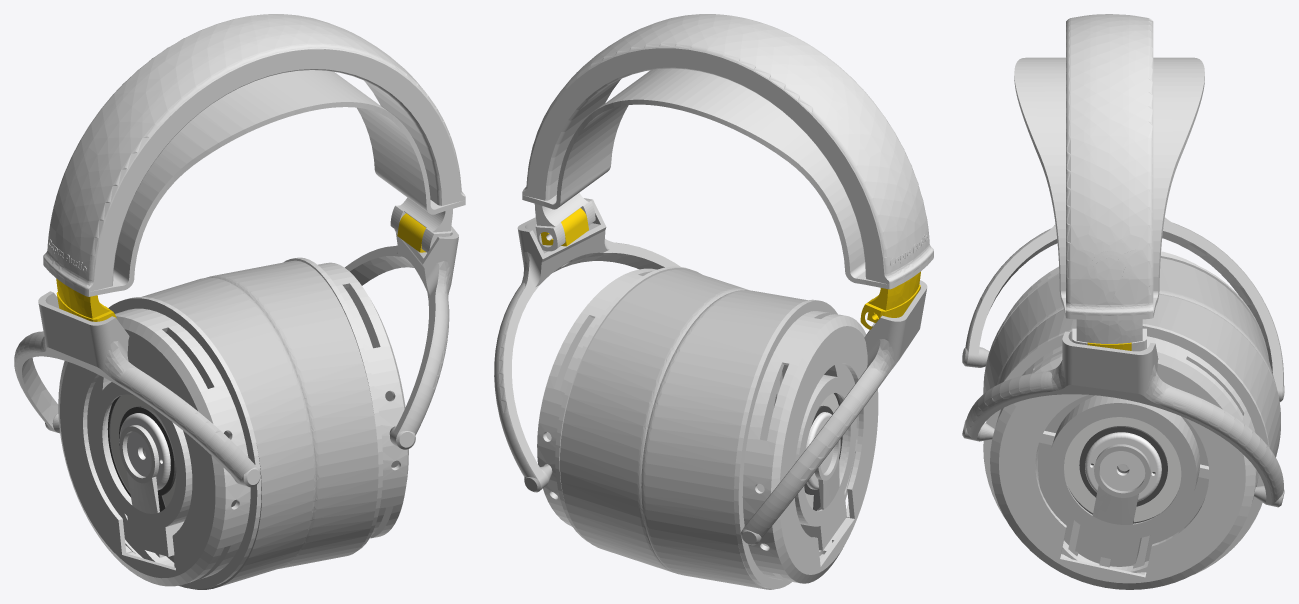
Rendered from open-omega-grouped.glb.
3 renders of one model, left to right at view 1: azimuth 30°, elevation 25°; view 2: azimuth 150°, elevation 25°; view 3: azimuth 270°, elevation 25°, orthographic. The views are drawn at different scales.
Parts seen in each view (by area): view 1: solid_000, solid_021, solid_010, solid_023, solid_005, solid_019, solid_008, solid_031, solid_006, solid_027, solid_004, solid_024 (+3 smaller); view 2: solid_000, solid_023, solid_010, solid_021, solid_005, solid_006, solid_019, solid_008, solid_031, solid_004, solid_002, solid_003 (+1 smaller); view 3: solid_008, solid_000, solid_005, solid_006, solid_011, solid_010, solid_023, solid_019, solid_012, solid_018, solid_015, solid_004 (+2 smaller).
Part boxes in pixels (bbox=[...]): solid_000: bbox=[43, 14, 465, 291]; solid_021: bbox=[58, 297, 261, 588]; solid_010: bbox=[206, 260, 378, 568]; solid_023: bbox=[142, 277, 315, 589]; solid_005: bbox=[43, 70, 465, 296]; solid_019: bbox=[14, 291, 260, 487]; solid_008: bbox=[283, 257, 408, 550]; solid_031: bbox=[92, 382, 192, 556]; solid_006: bbox=[345, 226, 458, 449]; solid_027: bbox=[119, 413, 170, 490]; solid_004: bbox=[390, 197, 452, 252]; solid_024: bbox=[110, 394, 176, 507]; solid_000: bbox=[522, 14, 933, 284]; solid_023: bbox=[641, 290, 807, 589]; solid_010: bbox=[560, 269, 748, 574]; solid_021: bbox=[734, 299, 878, 589]; solid_005: bbox=[522, 68, 933, 289]; solid_006: bbox=[494, 198, 680, 492]; solid_019: bbox=[740, 280, 927, 545]; solid_008: bbox=[537, 266, 701, 542]; solid_031: bbox=[795, 375, 856, 550]; solid_004: bbox=[534, 193, 595, 251]; solid_002: bbox=[860, 271, 920, 329]; solid_003: bbox=[541, 208, 588, 246]; solid_008: bbox=[983, 324, 1269, 589]; solid_000: bbox=[1066, 14, 1153, 315]; solid_005: bbox=[1014, 57, 1204, 320]; solid_006: bbox=[962, 331, 1284, 507]; solid_011: bbox=[1048, 395, 1199, 564]; solid_010: bbox=[983, 293, 1280, 461]; solid_023: bbox=[983, 258, 1280, 413]; solid_019: bbox=[962, 217, 1284, 402]; solid_012: bbox=[1064, 417, 1181, 522]; solid_018: bbox=[1038, 395, 1208, 566]; solid_015: bbox=[1085, 432, 1161, 501]; solid_004: bbox=[1072, 319, 1146, 351].
Size of the model in its own units: 171 by 222 by 125.
